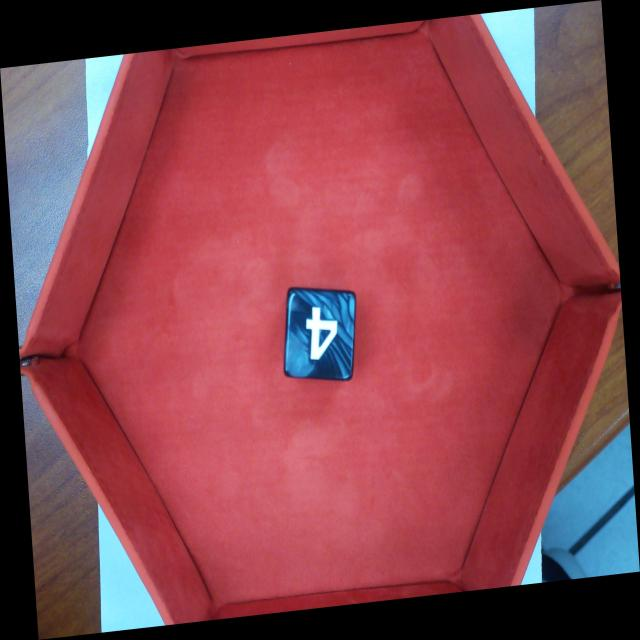dice: (283, 286, 357, 382)
